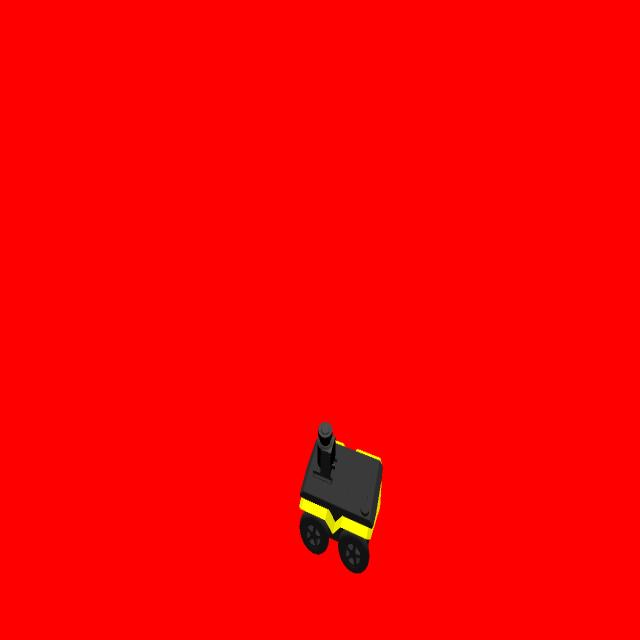jackal: (297, 420, 382, 576)
